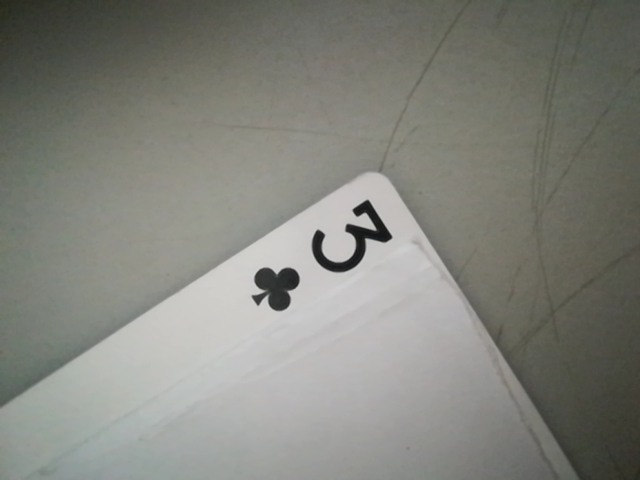mh 3: (241, 195, 409, 313)
